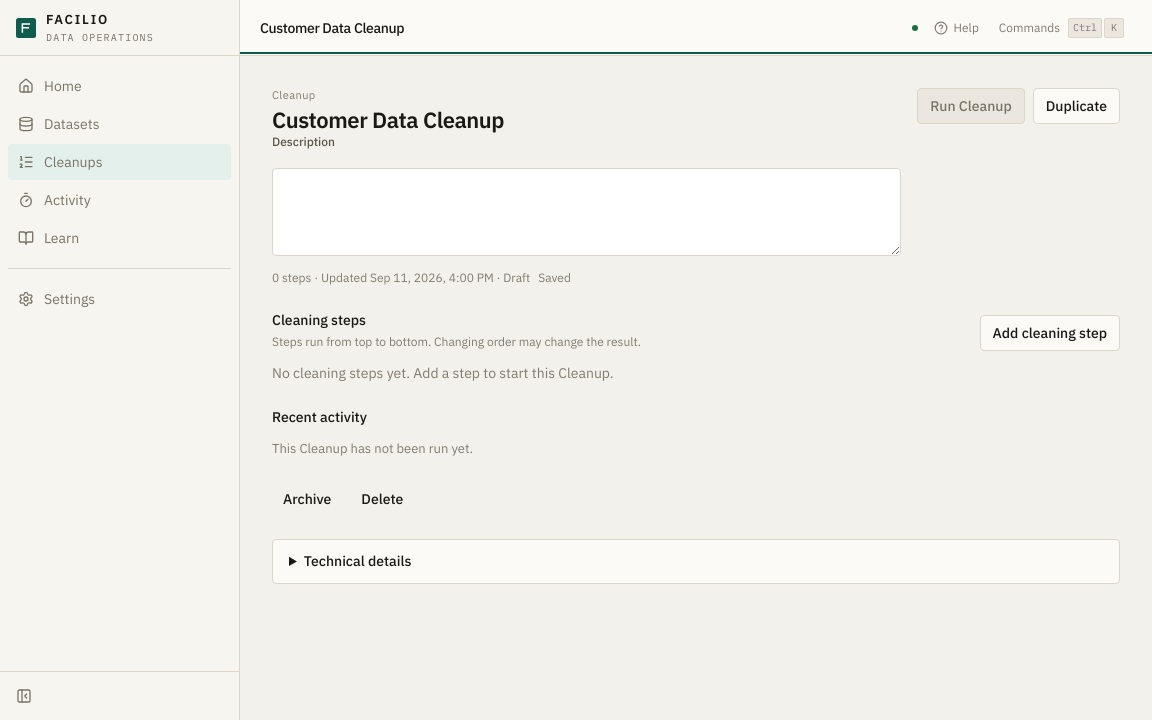
Test case: builder picker adds an ordered cleaning step
The image size is (1152, 720).
Click the button "Add cleaning step".
click(1050, 333)  # box [980, 315, 1120, 351]
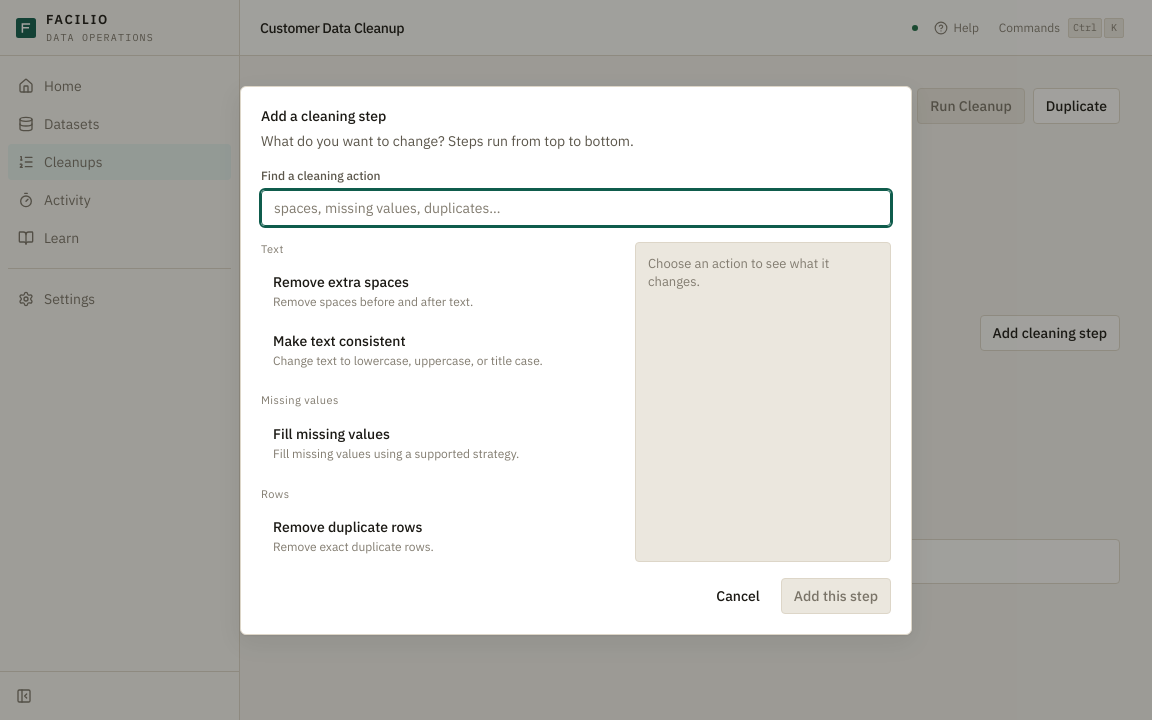
Expected: the text "What do you want to change? Steps run from top to bottom." is shown, [261, 132, 634, 150]
Click the button "Remove extra spaces Remove spaces before and after text.".
click(438, 291)  # box [261, 264, 615, 319]
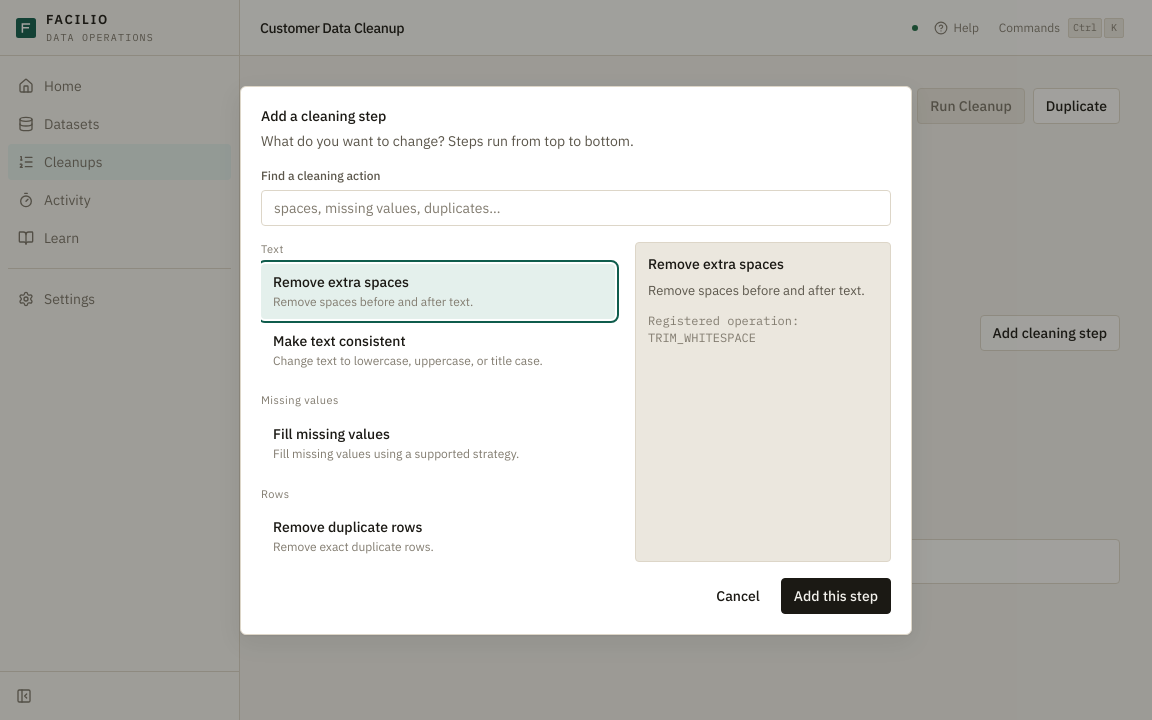
Click the button "Add this step".
click(836, 596)  # box [781, 578, 891, 614]
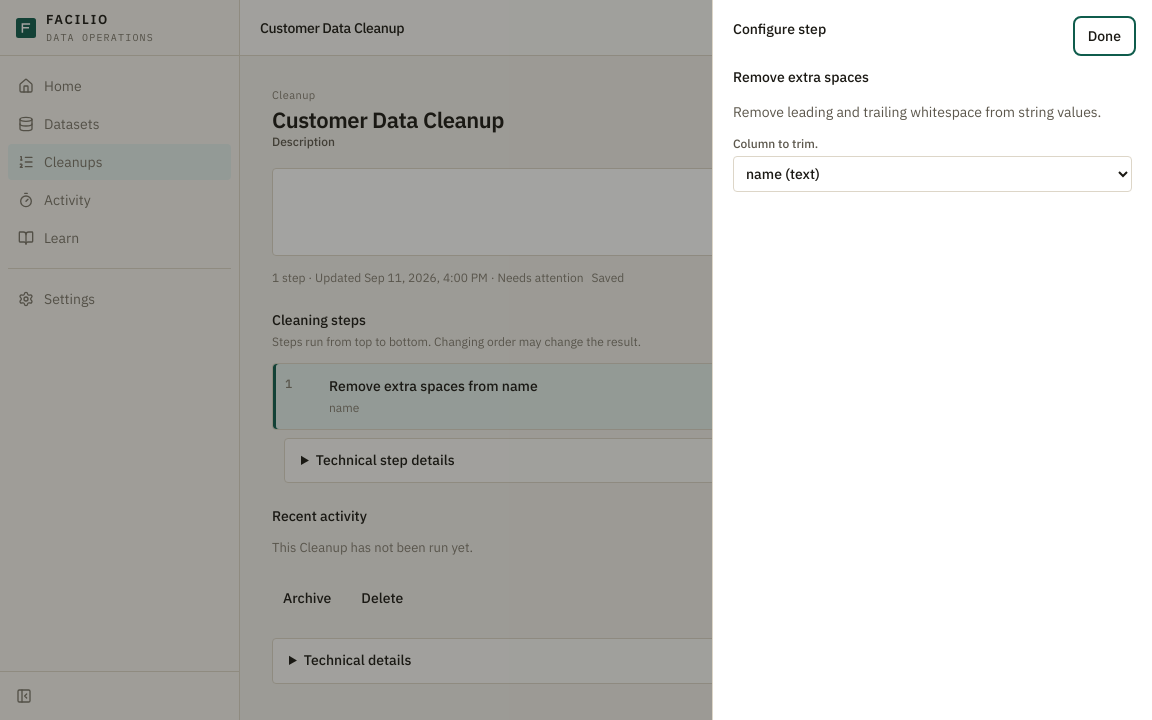
Expected: the list named "Cleaning steps" is shown, [272, 363, 1120, 484]
